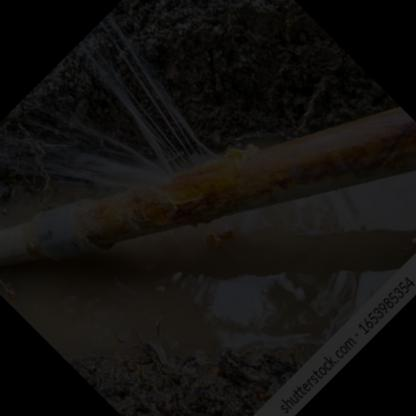burst: (98, 137, 237, 212)
